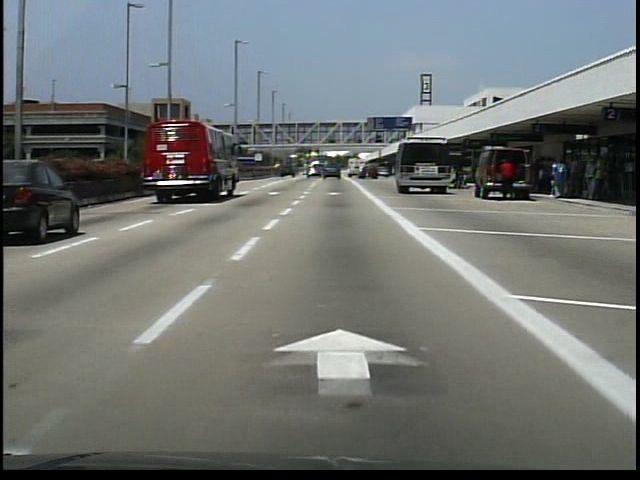person: (497, 157, 517, 207), (447, 169, 467, 194)
